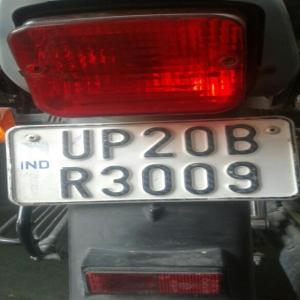Plate: (17, 119, 288, 203)
